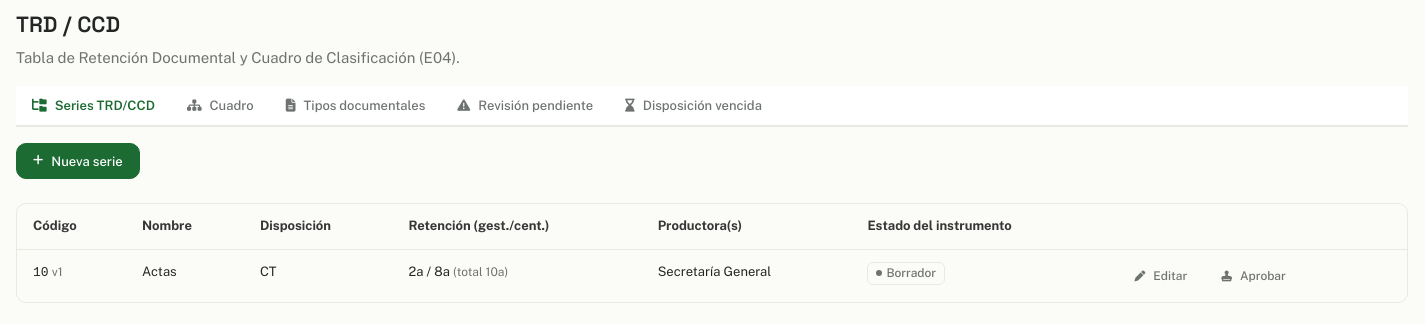
Test: /admin/trd — tipo documental publicable (C-4) › columna «Publicable (Ley 1712)» separada de «Ventanilla pública»
The image size is (1425, 324).
Click the tab "Tipos documentales" at (356, 107), box [270,86,441,127]
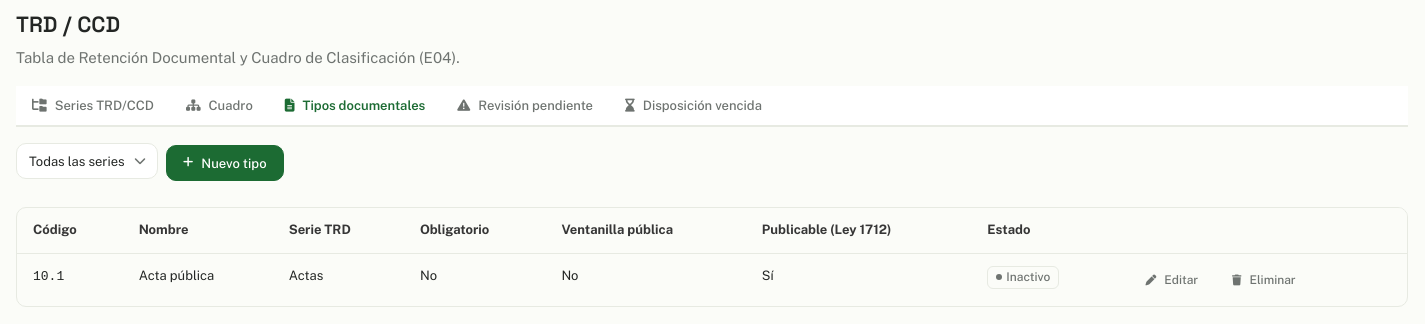
Expected: the column heading "Publicable (Ley 1712)" is shown, [746,208,971,254]
Expected: the column heading "Ventanilla pública" is shown, [545,208,746,254]
